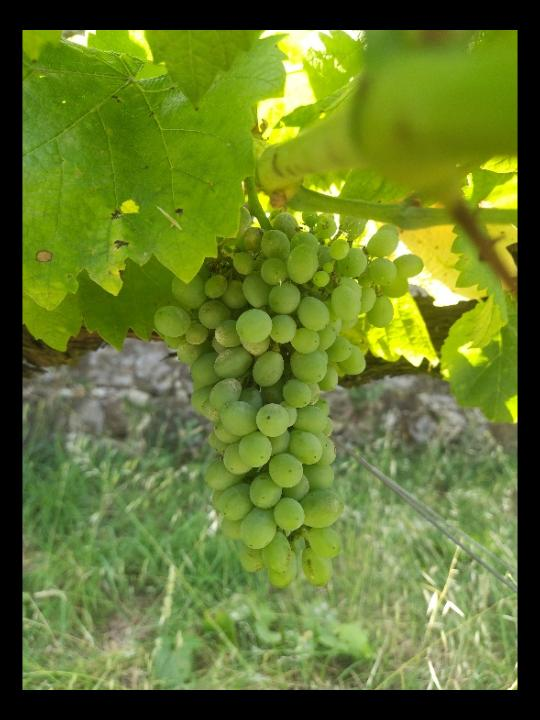grape: (150, 206, 430, 592)
